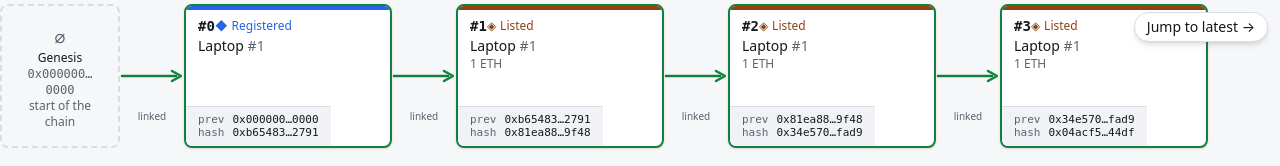
Test: ChainStrip › following the newest record › offers a way back once the user scrolls away from the end, and hides it again after
Click the button "Jump to latest →" at point(1201, 27), box [1134, 12, 1268, 42]
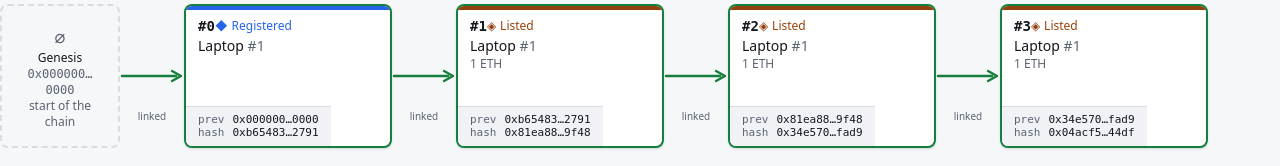
Expected: the button "Jump to latest" is gone
